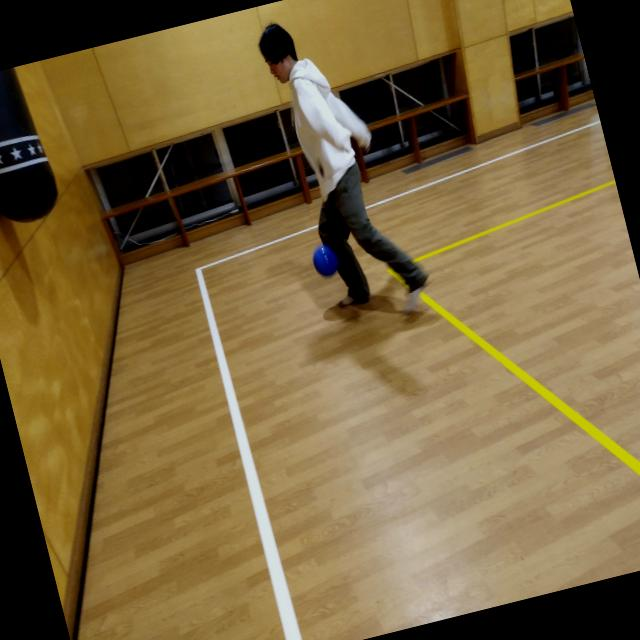blue_ball: (310, 240, 341, 279)
